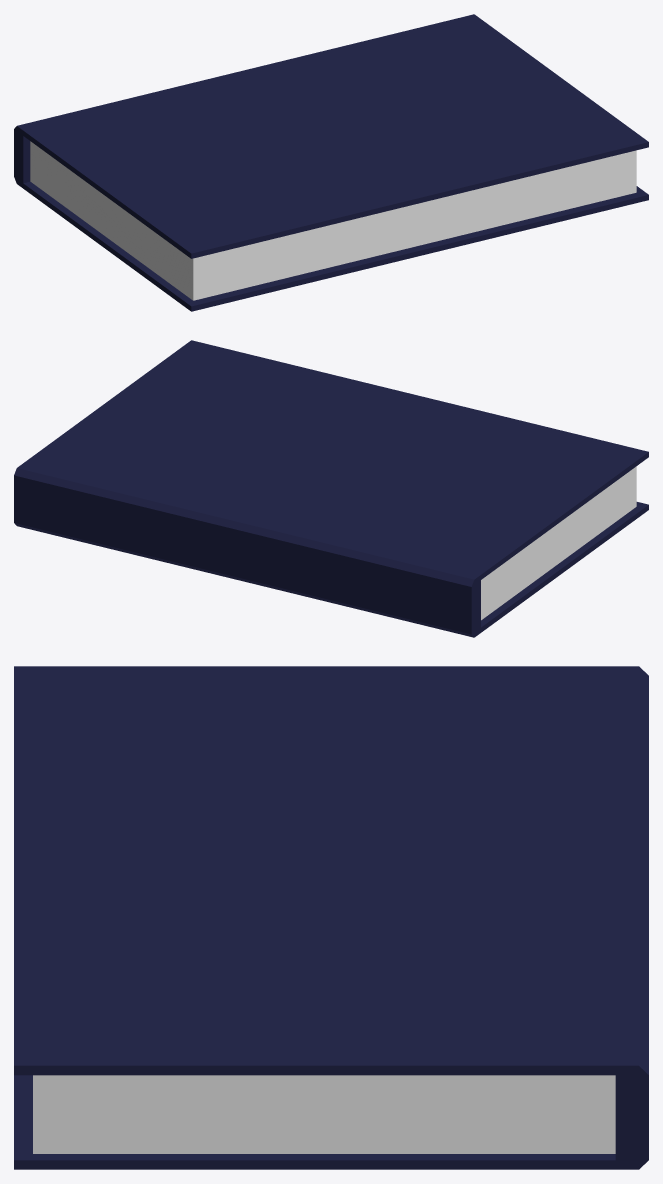
The model's file is book2.fbx.
The picture shows the model from 3 angles, top to bottom: view 1: azimuth 30°, elevation 25°; view 2: azimuth 150°, elevation 25°; view 3: azimuth 270°, elevation 25°; orthographic projection. The views are drawn at different scales.
Visible parts, largest first — view 1: Cube; view 2: Cube; view 3: Cube.
Part boxes in pixels (x1,y1,x2,y2): Cube: [14, 14, 648, 311]; Cube: [14, 340, 648, 637]; Cube: [14, 666, 648, 1169].
Bounding box in the file's own units: 3.03 × 0.3673 × 2.03.
